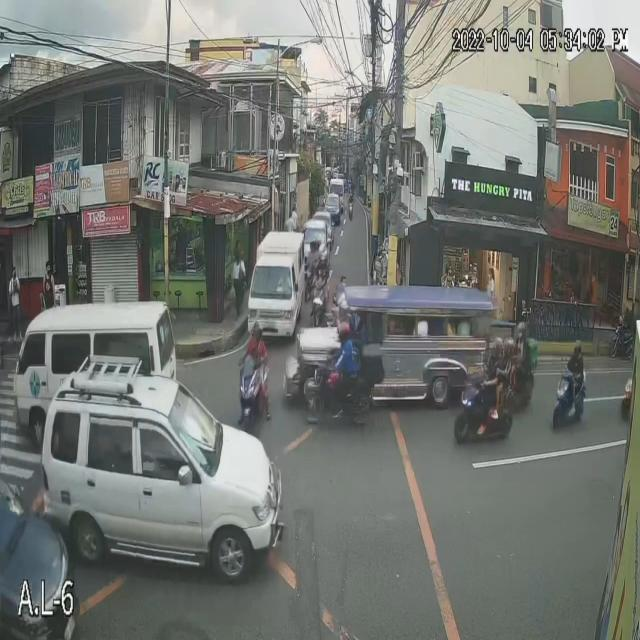Full-Faced: (338, 322, 353, 348), (492, 335, 503, 364), (502, 338, 516, 359), (571, 339, 582, 364)
Half-Faced: (516, 322, 528, 345)
Not-Wearing-Helmet: (250, 322, 264, 340)
